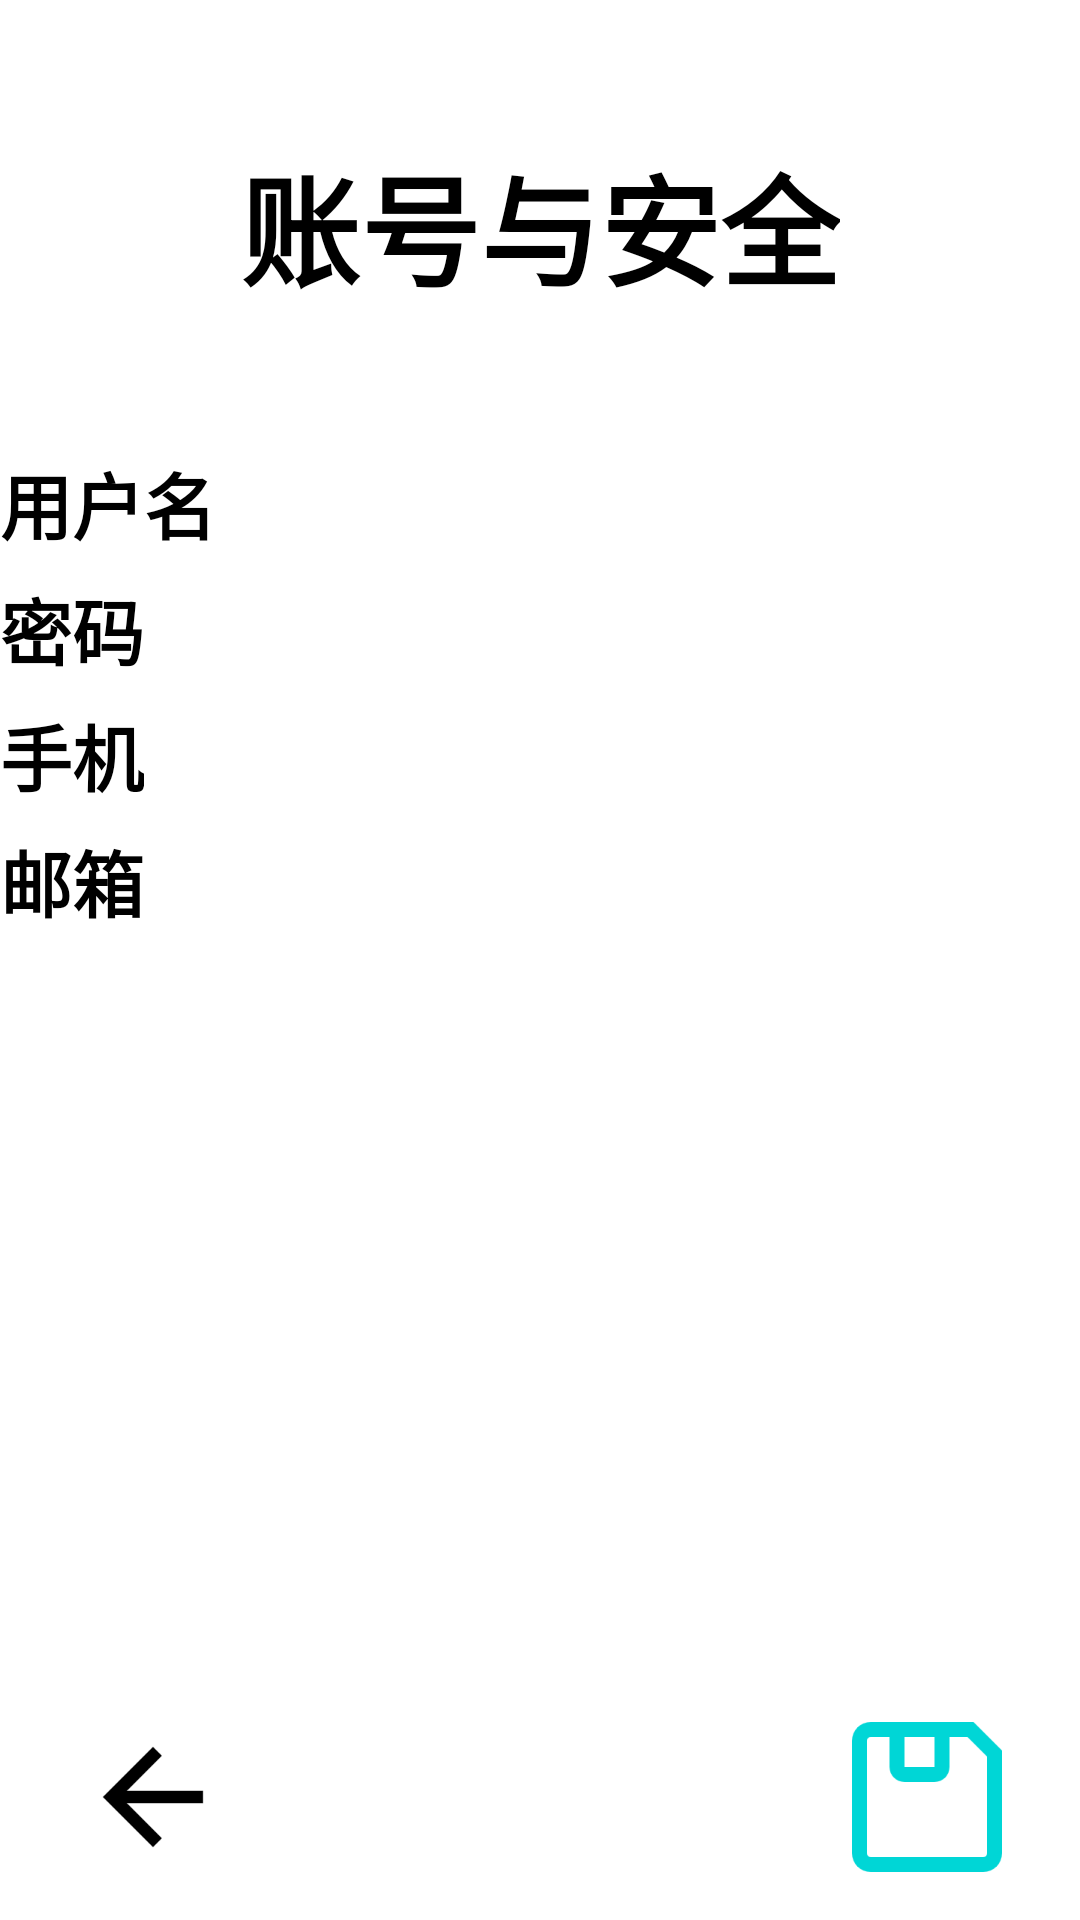

Where icons sit on this 1080 × 1920 app screen, as detection(x1, y1, x2, y2):
Back: detection(103, 1747, 204, 1847)
Save: detection(852, 1722, 1002, 1872)
